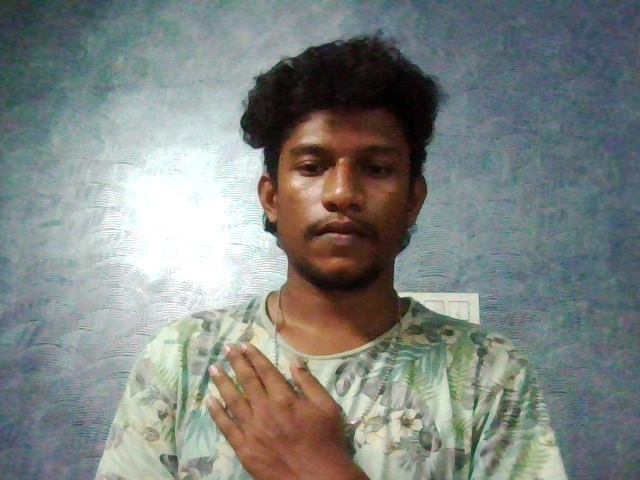please: (179, 324, 384, 480)
